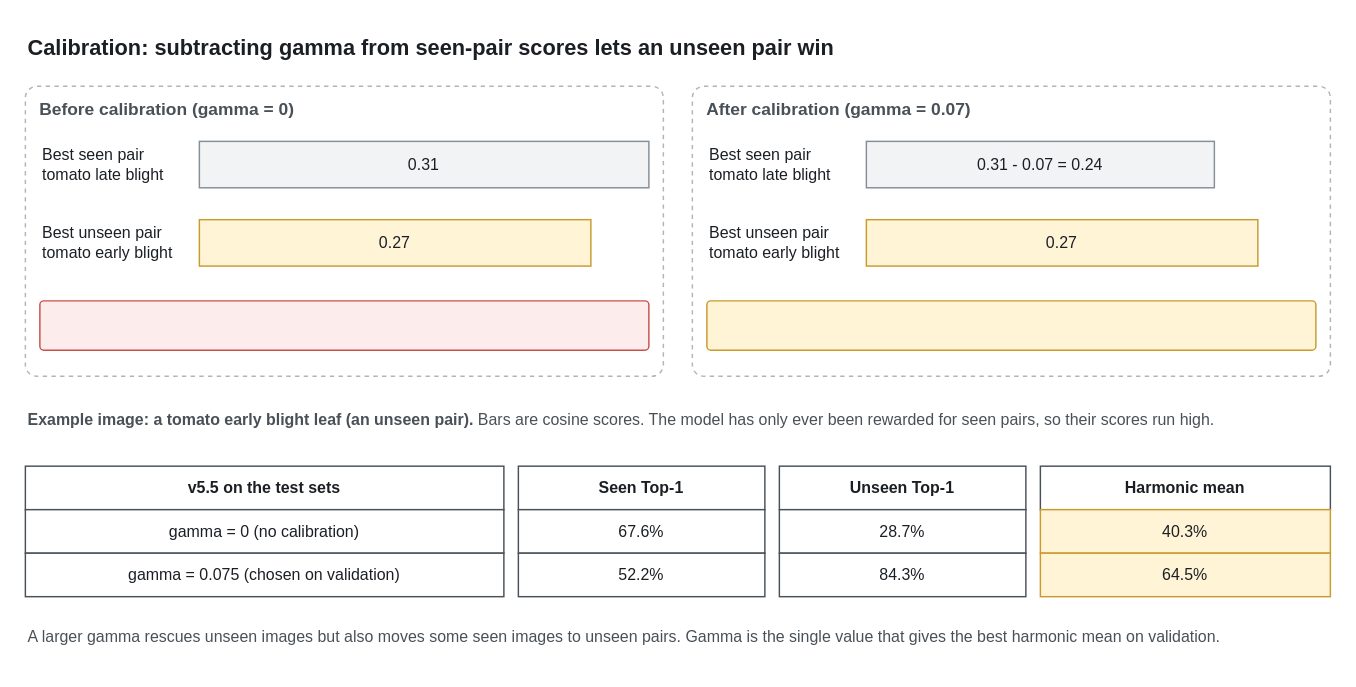
The diagram is 1356 pixels wide and 687 high, and some of its shapes have lost their labels. The shapes that lost their labels are listed below. From the top down, each one's centre as x and y in pixels, then its label:
(x=343, y=324): Prediction: tomato late blight (wrong)
(x=1010, y=324): Prediction: tomato early blight (correct)
